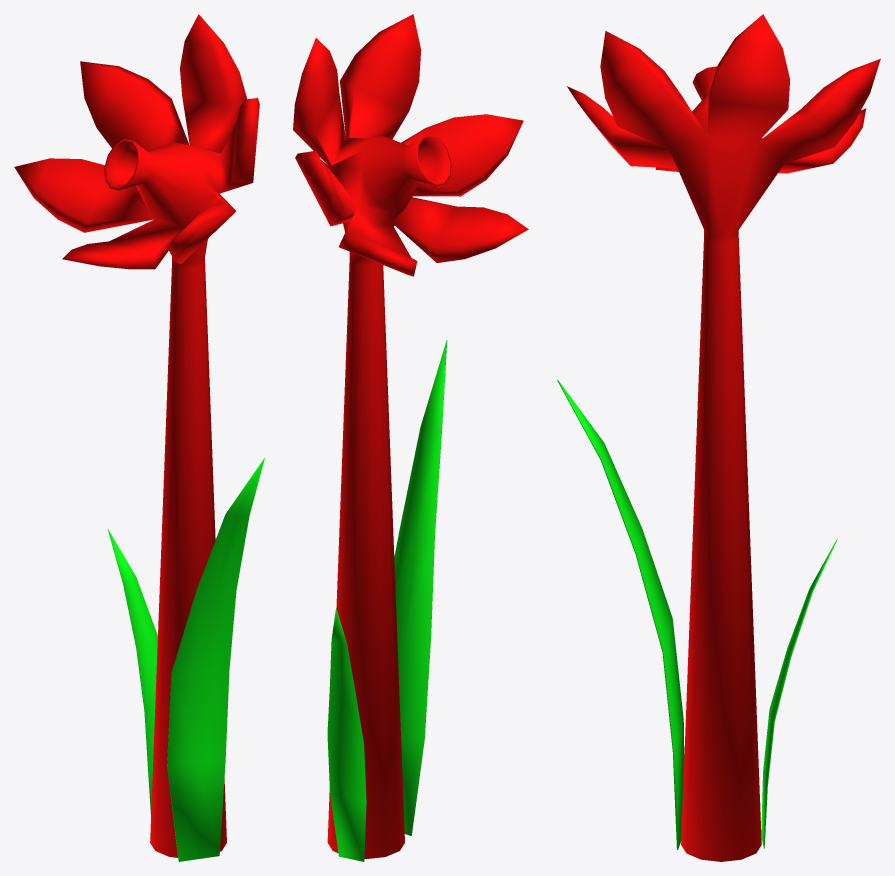
File: 3D_ENV_FLOWER.FBX
3 renders of one model, left to right at view 1: azimuth 30°, elevation 25°; view 2: azimuth 150°, elevation 25°; view 3: azimuth 270°, elevation 25°, orthographic. The views are drawn at different scales.
Visible parts, largest first — view 1: flOWER, Leaf, Leaf001; view 2: flOWER, Leaf, Leaf001; view 3: flOWER, Leaf, Leaf001.
Boxes of the visible parts, bbox=[...] form: flOWER: bbox=[14, 14, 259, 857]; Leaf: bbox=[167, 458, 264, 861]; Leaf001: bbox=[108, 529, 157, 814]; flOWER: bbox=[293, 14, 528, 859]; Leaf: bbox=[394, 340, 447, 835]; Leaf001: bbox=[327, 608, 366, 861]; flOWER: bbox=[567, 14, 880, 861]; Leaf: bbox=[557, 380, 684, 849]; Leaf001: bbox=[761, 539, 837, 848].
Size of the model in its own units: 8.24 by 32.25 by 11.17.
